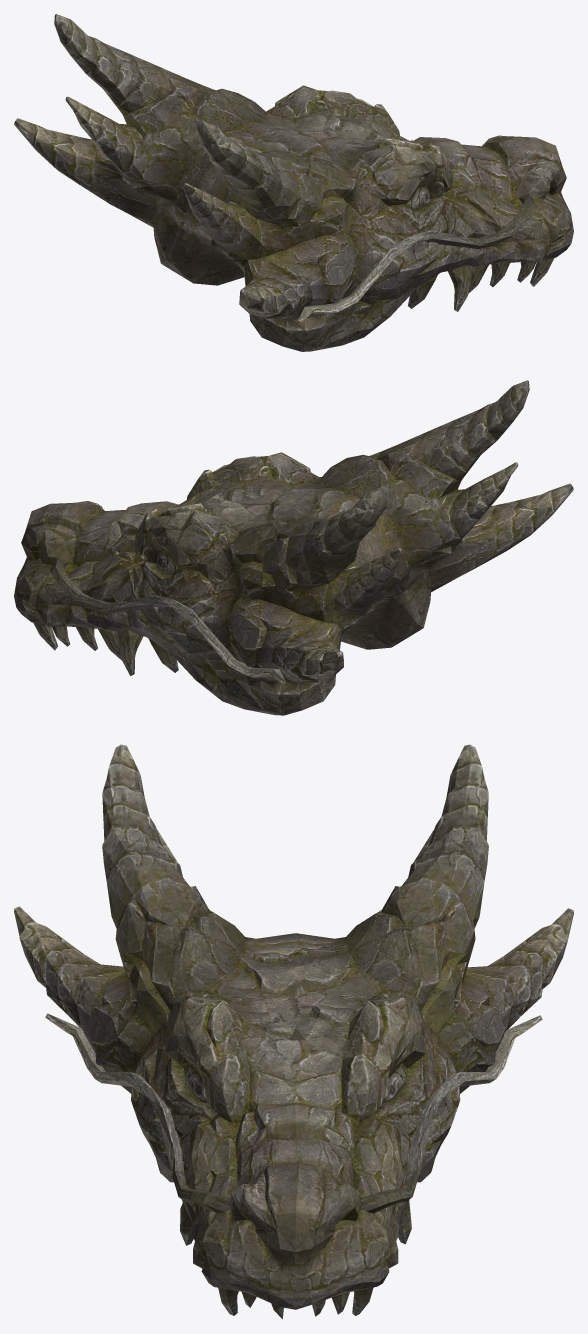
File: bg_anh_gvalley_dstair01_01_sm_old.FBX
The picture shows the model from 3 angles, top to bottom: view 1: azimuth 30°, elevation 25°; view 2: azimuth 150°, elevation 25°; view 3: azimuth 270°, elevation 25°; orthographic projection. The views are drawn at different scales.
Visible parts, largest first — view 1: bg_anh_gvalley_dstair01_01_sm_old; view 2: bg_anh_gvalley_dstair01_01_sm_old; view 3: bg_anh_gvalley_dstair01_01_sm_old.
Part boxes in pixels (box(x1,y1,x2,y2)): bg_anh_gvalley_dstair01_01_sm_old: box(14, 14, 573, 351); bg_anh_gvalley_dstair01_01_sm_old: box(14, 380, 573, 715); bg_anh_gvalley_dstair01_01_sm_old: box(14, 744, 573, 1318).
Size of the model in its own units: 781 by 498 by 721.
